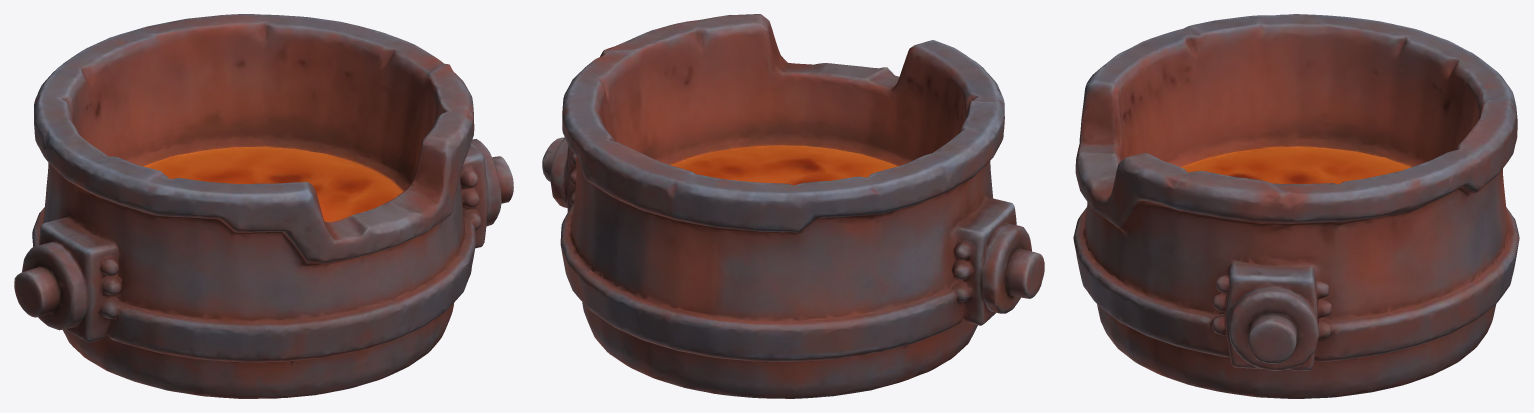
The model's file is olla_cobre.glb.
The picture shows the model from 3 angles, left to right: view 1: azimuth 30°, elevation 25°; view 2: azimuth 150°, elevation 25°; view 3: azimuth 270°, elevation 25°; orthographic projection.
Parts seen in each view (by area): view 1: geometry_0; view 2: geometry_0; view 3: geometry_0.
Part boxes in pixels (x1,y1,x2,y2): geometry_0: (14,14,513,398); geometry_0: (542,14,1044,398); geometry_0: (1073,14,1519,398).
Bounding box in the file's own units: 1 × 0.4438 × 0.8042.
1 material, 1 textured.
